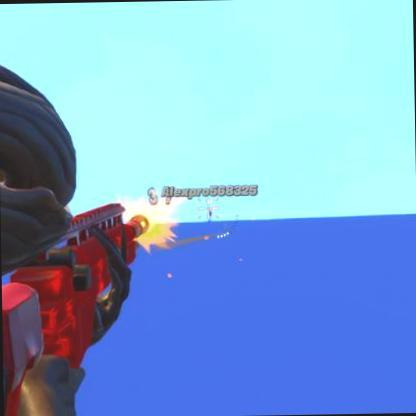person: (206, 209, 213, 224)
